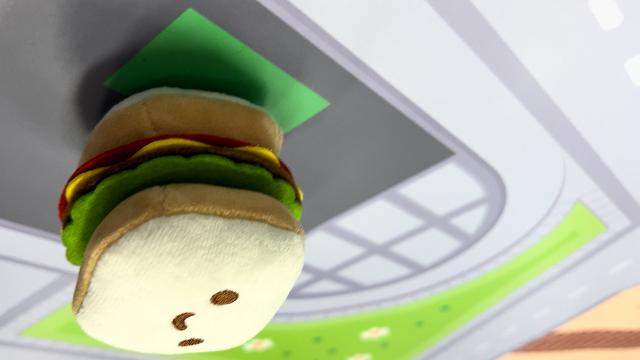sandwich: (56, 84, 310, 354)
